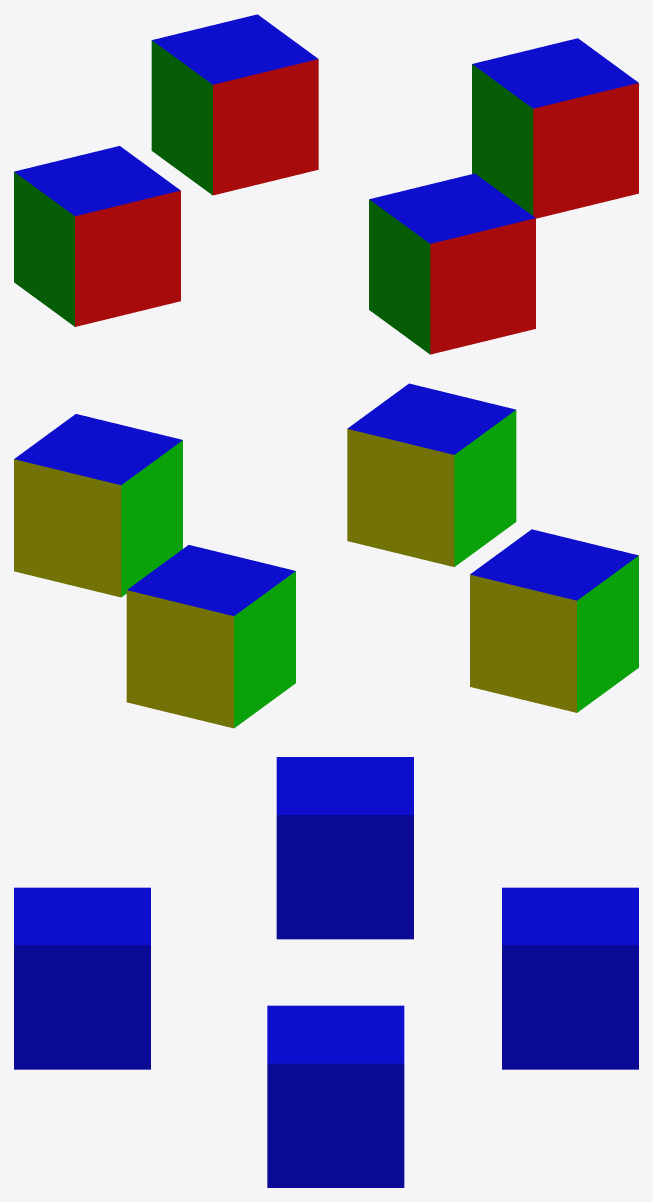
The model's file is IDMapTest_high.fbx.
3 views of the same model, one above another, from view 1: azimuth 30°, elevation 25°; view 2: azimuth 150°, elevation 25°; view 3: azimuth 270°, elevation 25° (orthographic). The views are drawn at different scales.
Parts seen in each view (by area): view 1: Cube_high; view 2: Cube_high; view 3: Cube_high.
Boxes of the visible parts, x1,y1,x2,y2 form: Cube_high: (14, 14, 638, 354); Cube_high: (14, 383, 638, 728); Cube_high: (14, 757, 638, 1187).
Bounding box in the file's own units: 5.29 × 1 × 4.56.
